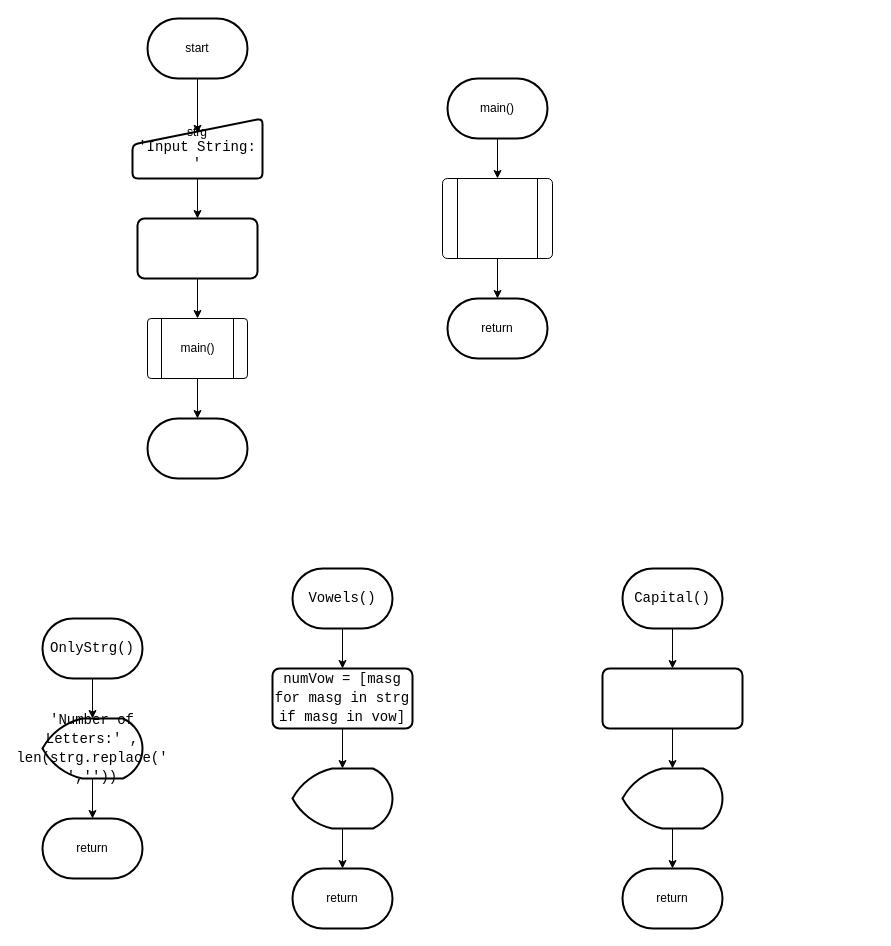
This 891x946 diagram has some shape labels left out. The box of each missing label's shape, as (x1, y1, x2, y2) in pixels:
'Number of Capital:' , len ( res ) , '[ %s ]' % ',' . join ( map ( str , res )): (621, 767, 723, 829)
'Number of vowels:' , len ( numVow ): (291, 767, 393, 829)
end: (146, 417, 248, 479)
OnlyStrg () Vowels () Capital (): (442, 178, 552, 258)
res = [ upper for upper in strg if upper . isupper ()]: (601, 667, 743, 729)
vow 'AaEeIiOoUu': (136, 217, 258, 279)
